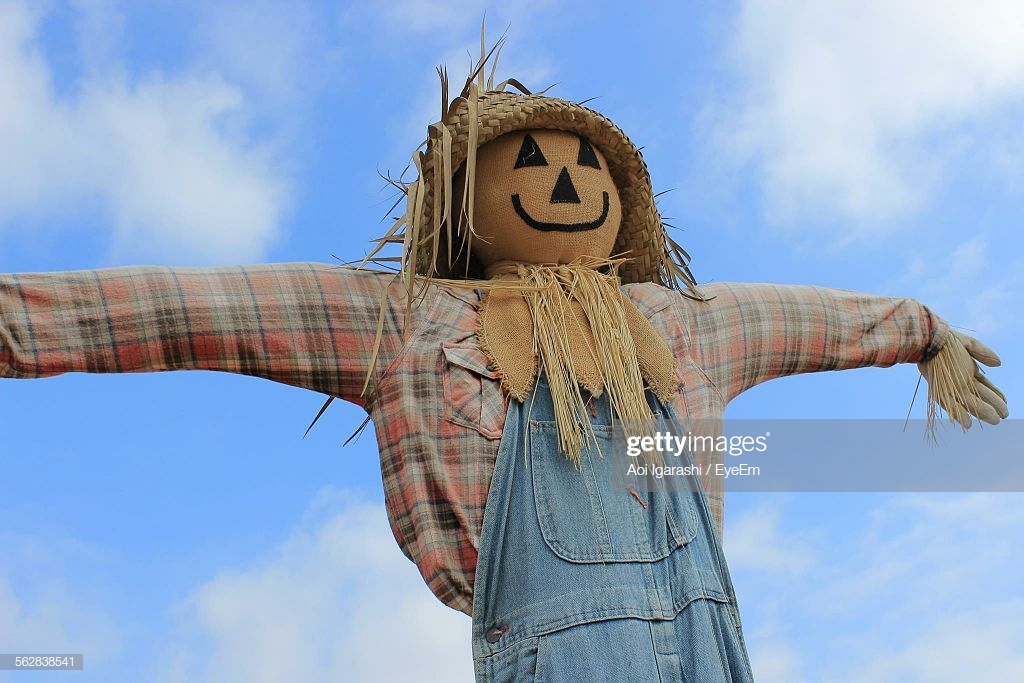person-like: (4, 77, 1017, 683)
